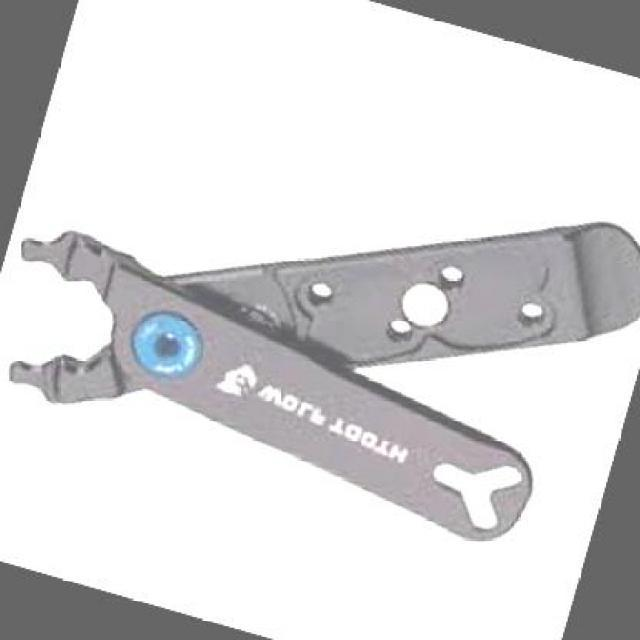pliers: (0, 40, 638, 589)
